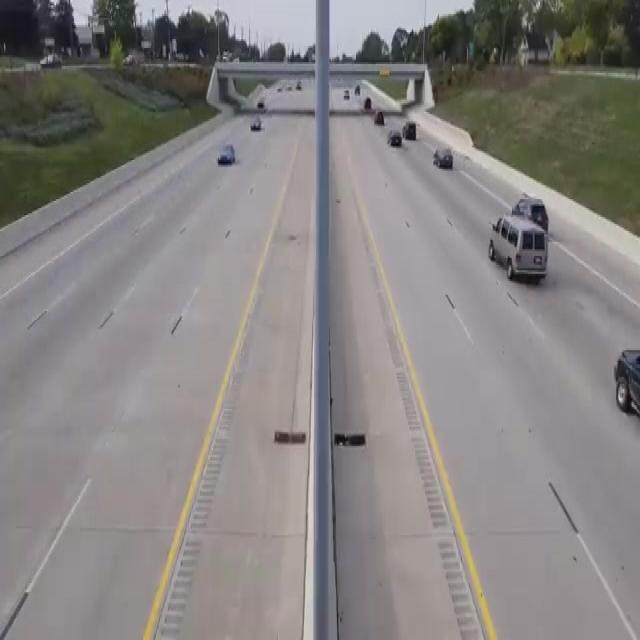car: (506, 181, 557, 248), (431, 132, 464, 183), (212, 140, 246, 188), (382, 131, 413, 155), (248, 115, 266, 140), (402, 118, 420, 142), (373, 110, 389, 131), (361, 94, 373, 116)
van: (484, 217, 574, 294)
